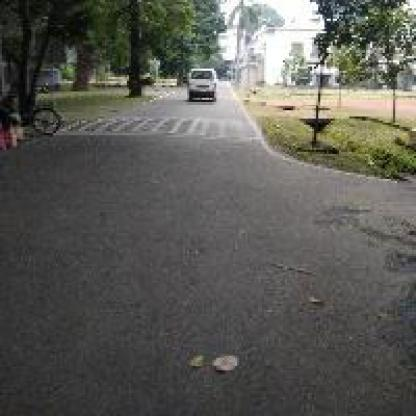Speed Bump: (60, 112, 258, 138)
